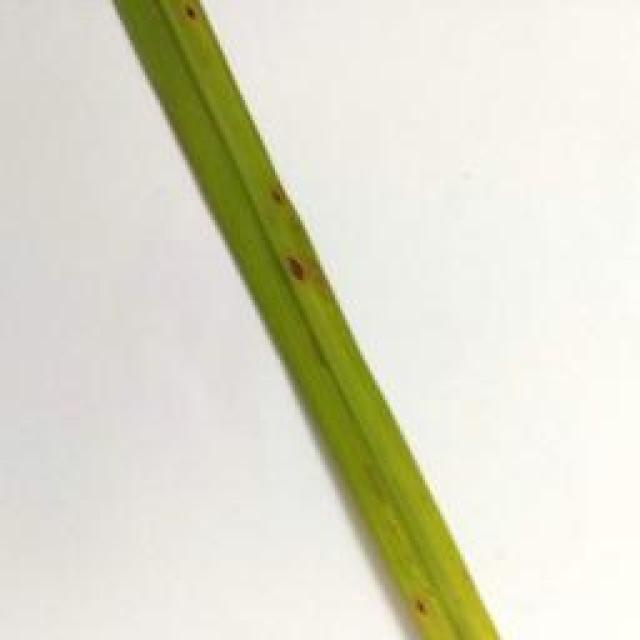Brown_Spot: (240, 176, 310, 216), (279, 229, 312, 303), (169, 0, 210, 27), (404, 601, 445, 628)
